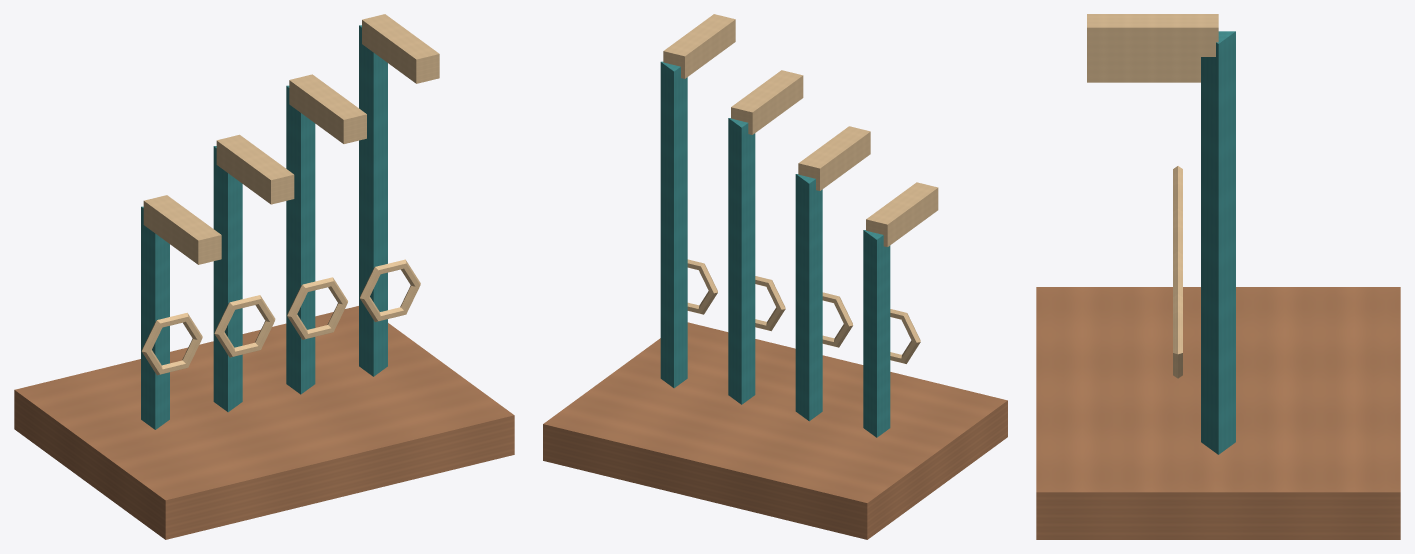
Rendered from atlas100-s094-a03.lod2.glb.
3 views of the same model, side by side, from view 1: azimuth 30°, elevation 25°; view 2: azimuth 150°, elevation 25°; view 3: azimuth 270°, elevation 25° (orthographic). The views are drawn at different scales.
Visible parts, largest first — view 1: atlas100-s094-a03:part-000, atlas100-s094-a03:part-012, atlas100-s094-a03:part-009, atlas100-s094-a03:part-006, atlas100-s094-a03:part-003, atlas100-s094-a03:part-005, atlas100-s094-a03:part-008, atlas100-s094-a03:part-011, atlas100-s094-a03:part-014, atlas100-s094-a03:part-004, atlas100-s094-a03:part-013, atlas100-s094-a03:part-010 (+1 smaller); view 2: atlas100-s094-a03:part-000, atlas100-s094-a03:part-012, atlas100-s094-a03:part-009, atlas100-s094-a03:part-006, atlas100-s094-a03:part-003, atlas100-s094-a03:part-011, atlas100-s094-a03:part-005, atlas100-s094-a03:part-014, atlas100-s094-a03:part-008, atlas100-s094-a03:part-013, atlas100-s094-a03:part-004, atlas100-s094-a03:part-007 (+1 smaller); view 3: atlas100-s094-a03:part-000, atlas100-s094-a03:part-012, atlas100-s094-a03:part-014, atlas100-s094-a03:part-008, atlas100-s094-a03:part-005, atlas100-s094-a03:part-011, atlas100-s094-a03:part-013.
Boxes of the visible parts, box(x1,y1,x2,y2) form: atlas100-s094-a03:part-000: box(14, 306, 514, 539); atlas100-s094-a03:part-012: box(359, 25, 387, 376); atlas100-s094-a03:part-009: box(286, 85, 315, 394); atlas100-s094-a03:part-006: box(213, 146, 242, 412); atlas100-s094-a03:part-003: box(141, 206, 169, 429); atlas100-s094-a03:part-005: box(143, 195, 221, 264); atlas100-s094-a03:part-008: box(216, 134, 294, 204); atlas100-s094-a03:part-011: box(289, 74, 366, 143); atlas100-s094-a03:part-014: box(362, 14, 439, 83); atlas100-s094-a03:part-004: box(141, 312, 202, 375); atlas100-s094-a03:part-013: box(360, 259, 420, 321); atlas100-s094-a03:part-010: box(287, 277, 347, 339); atlas100-s094-a03:part-000: box(543, 322, 1007, 539); atlas100-s094-a03:part-012: box(660, 61, 687, 388); atlas100-s094-a03:part-009: box(728, 118, 755, 404); atlas100-s094-a03:part-006: box(795, 174, 822, 421); atlas100-s094-a03:part-003: box(863, 230, 890, 437); atlas100-s094-a03:part-011: box(731, 70, 803, 134); atlas100-s094-a03:part-005: box(866, 182, 938, 246); atlas100-s094-a03:part-014: box(663, 14, 735, 78); atlas100-s094-a03:part-008: box(798, 126, 870, 190); atlas100-s094-a03:part-013: box(687, 259, 717, 314); atlas100-s094-a03:part-004: box(890, 309, 920, 363); atlas100-s094-a03:part-007: box(822, 292, 853, 347); atlas100-s094-a03:part-000: box(1036, 287, 1400, 539); atlas100-s094-a03:part-012: box(1201, 31, 1235, 454); atlas100-s094-a03:part-014: box(1087, 14, 1218, 56); atlas100-s094-a03:part-008: box(1087, 65, 1200, 74); atlas100-s094-a03:part-005: box(1087, 74, 1200, 82); atlas100-s094-a03:part-011: box(1087, 57, 1200, 65); atlas100-s094-a03:part-013: box(1173, 294, 1182, 378).
Bounding box in the file's own units: 2.4 × 2.62 × 1.8.
Materials: 3 (3 with a texture image).
